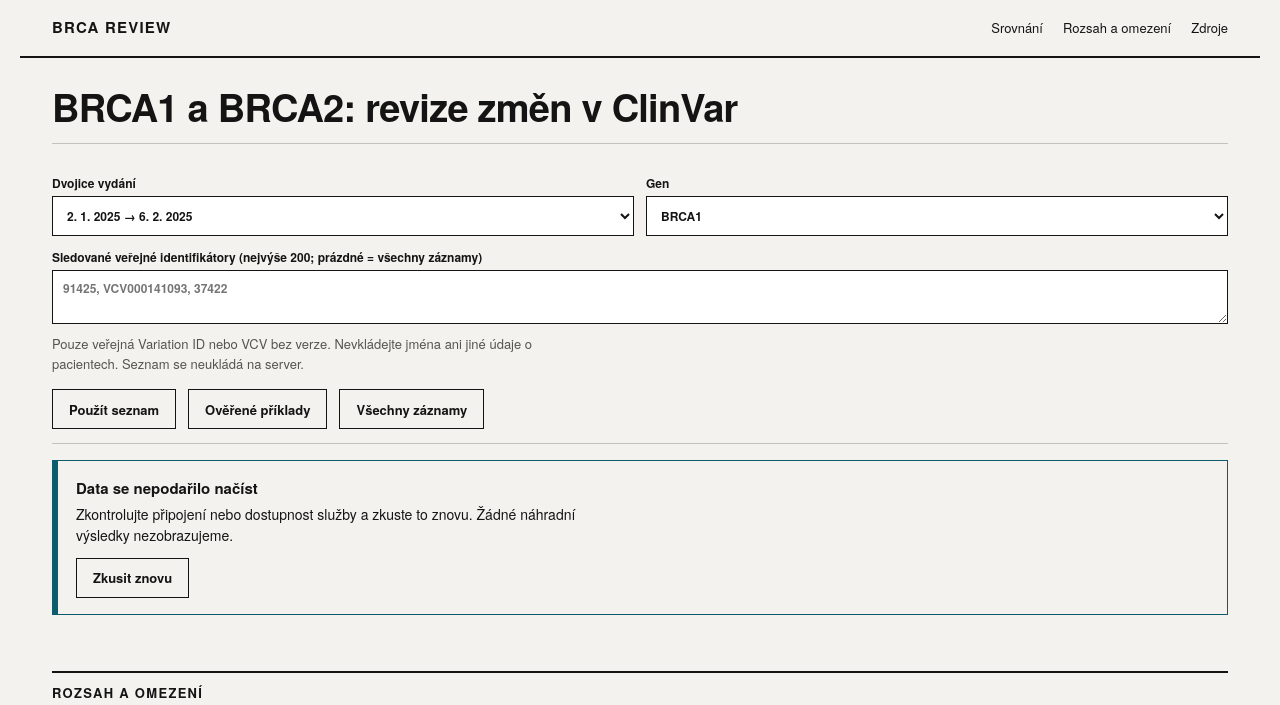
Test case: reports backend failure and retries without fabricated data
The image size is (1280, 705).
Expected: the message is shown, top-left (52, 460), bottom-right (1228, 615)
Click the button "Zkusit znovu": (133, 578) top-left (76, 558), bottom-right (189, 598)
(page scrolled)
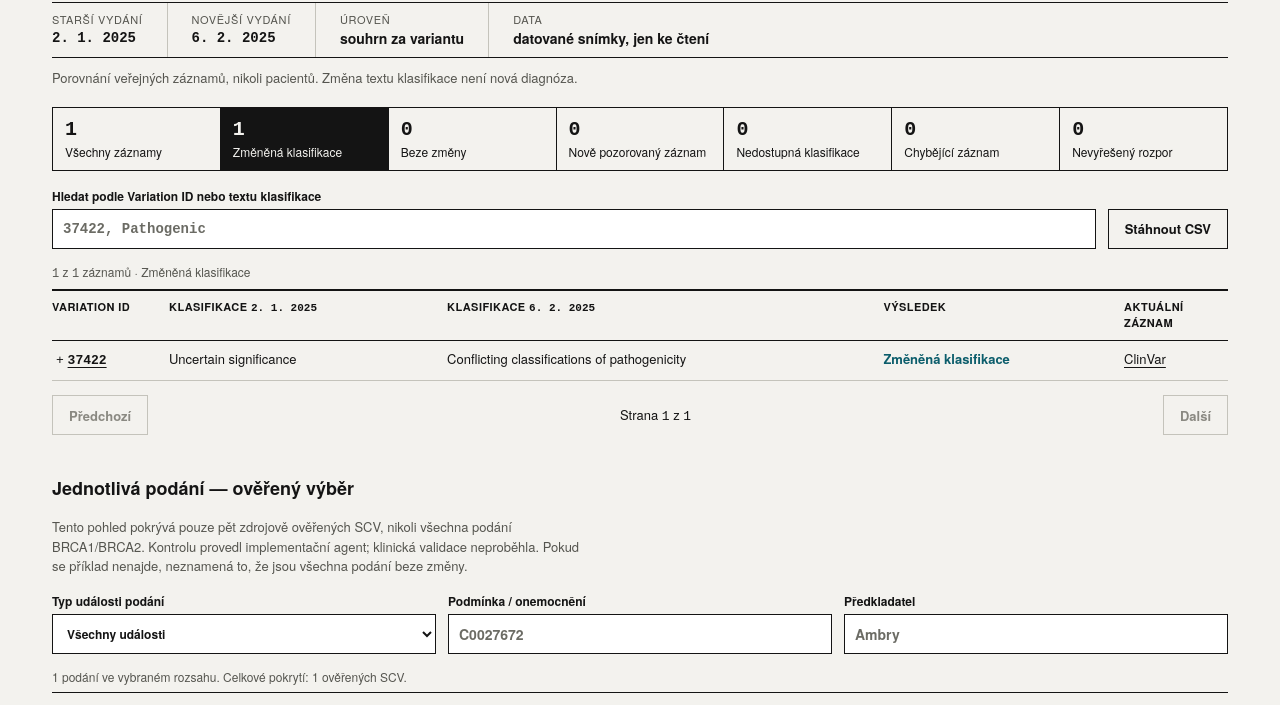
Expected: the button named "Detail varianty 37422" is shown, top-left (52, 347), bottom-right (113, 374)
